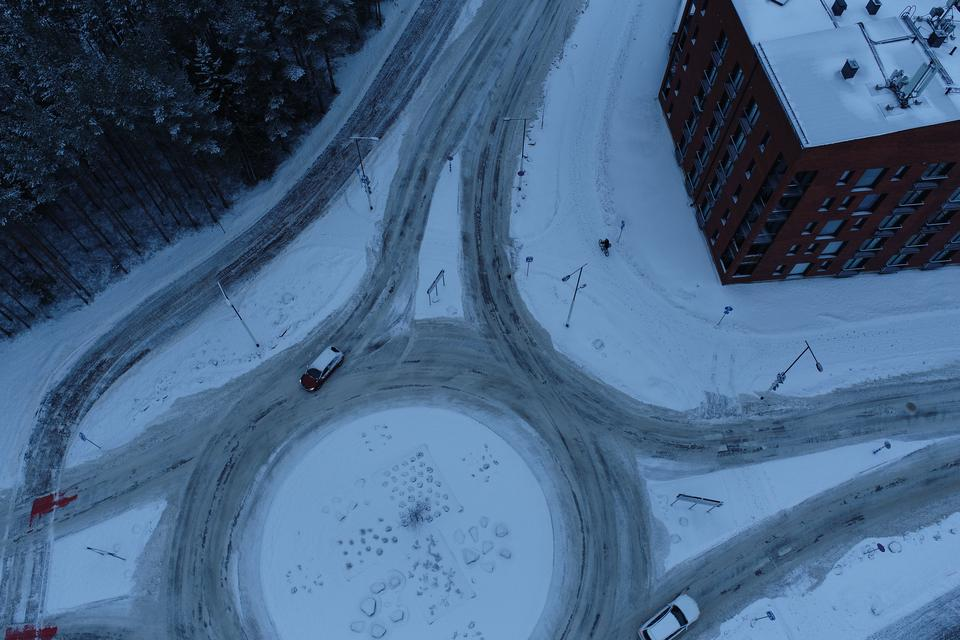intersection: (0, 427, 89, 640)
roundabout: (103, 292, 676, 640)
